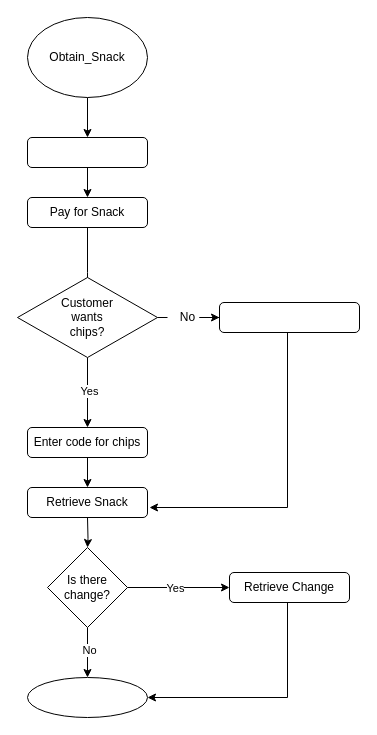
Image size: 377x735. Some labels were removed from this diagram. The centre of each missing label's shape, as x and y in pixels:
Choose Snack: pixel 87 152
Enjoy Snack: pixel 87 697
Enter code for candy: pixel 289 317
